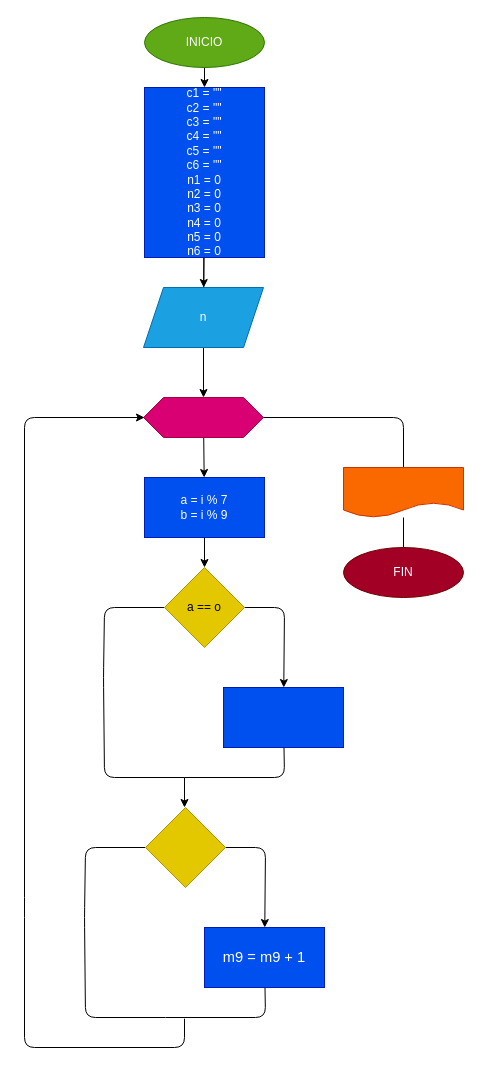
The diagram is 481 pixels wide and 1073 high, and some of its shapes have lost their labels. The shapes that lost their labels are listed below. From the top down, each one's centre as x and y in pixels, then its label:
At (203,417): "i = range(1000,5001)".
At (403,492): "m7, m9".
At (283,717): "m7 = m7 + 1".
At (185,847): "b == o".
